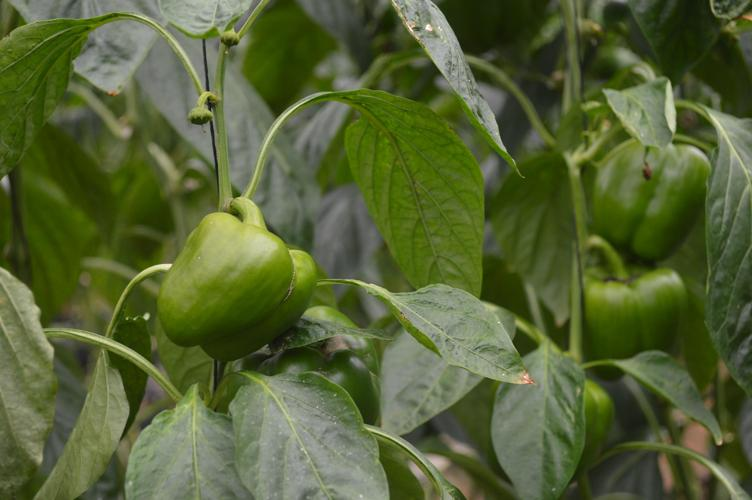BellPepper: (577, 132, 724, 267), (152, 219, 291, 349), (558, 266, 696, 382)
